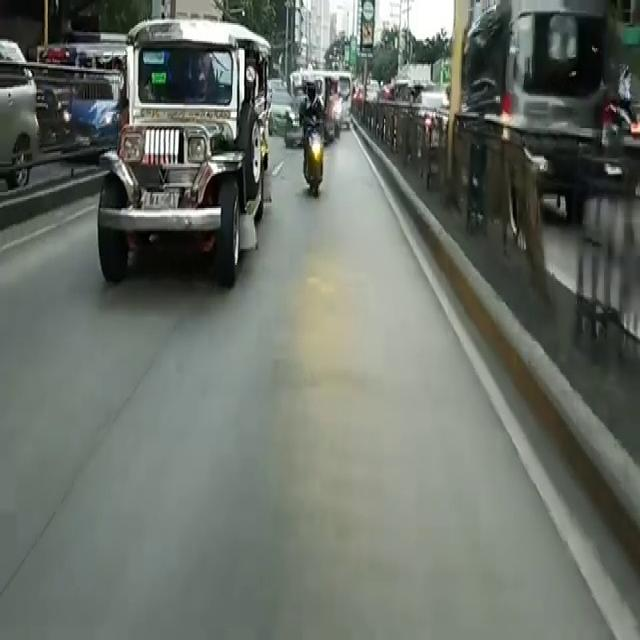car: (462, 10, 604, 215), (65, 68, 124, 150)
jeepney: (106, 30, 263, 292), (37, 46, 131, 107)
motorcycle: (299, 85, 331, 207)
